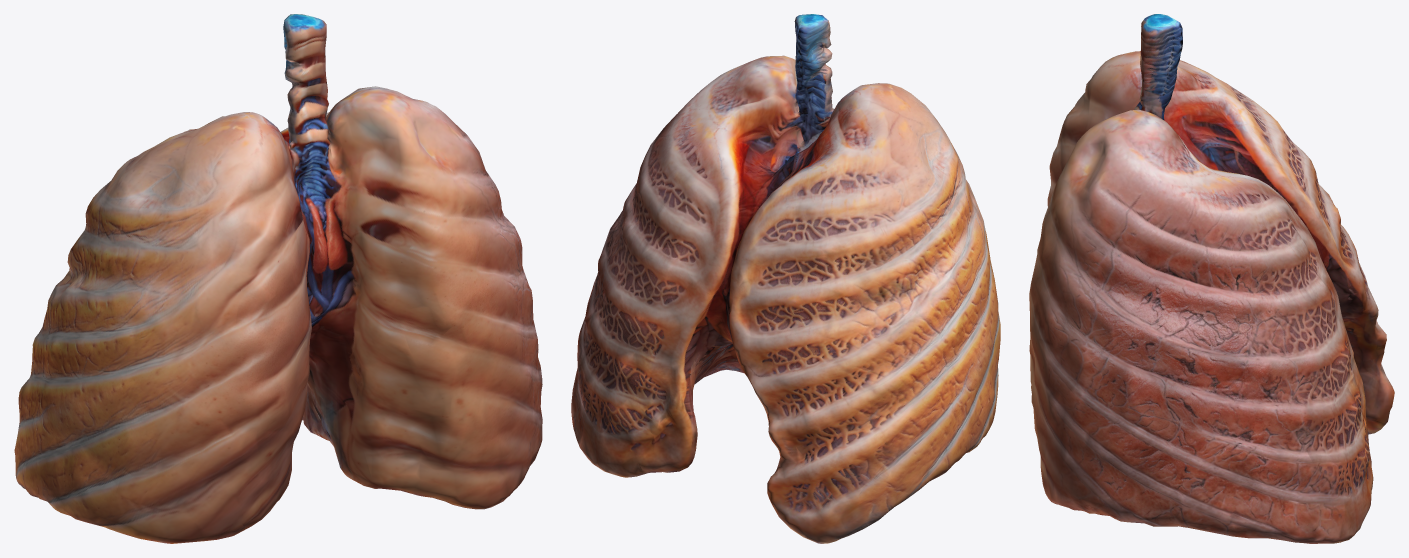
File: paru.glb
3 views of the same model, side by side, from view 1: azimuth 30°, elevation 25°; view 2: azimuth 150°, elevation 25°; view 3: azimuth 270°, elevation 25° (orthographic). The views are drawn at different scales.
Size of the model in its own units: 1.11 by 1.2 by 0.8461.
1 material, 1 textured.
